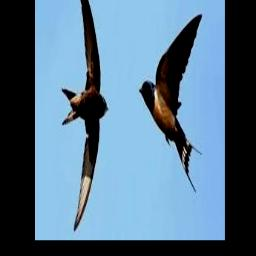Swallow: (139, 14, 202, 190), (62, 0, 108, 231)
